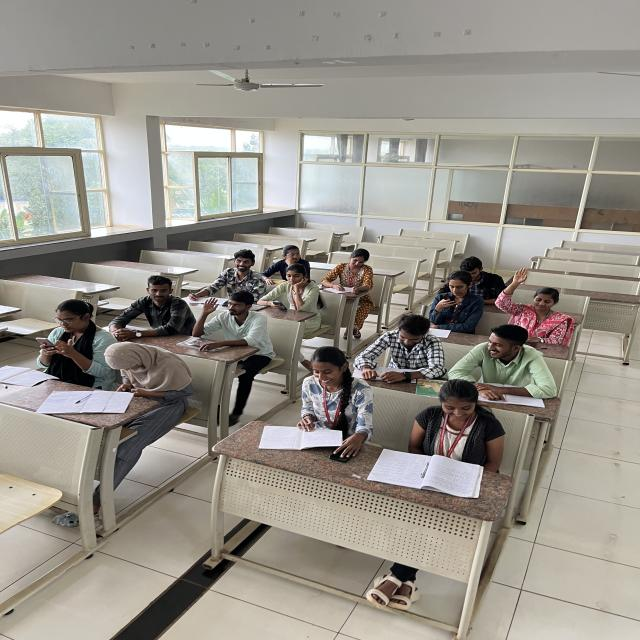Hand Rising: (500, 271, 593, 336), (190, 293, 274, 353)
Reading: (389, 373, 490, 493), (274, 342, 373, 442), (361, 317, 451, 389)
Using Phone: (91, 336, 205, 391), (24, 302, 112, 366), (434, 248, 507, 300), (425, 279, 490, 327), (266, 272, 328, 318)
Writing: (180, 248, 268, 302), (325, 246, 377, 299)
